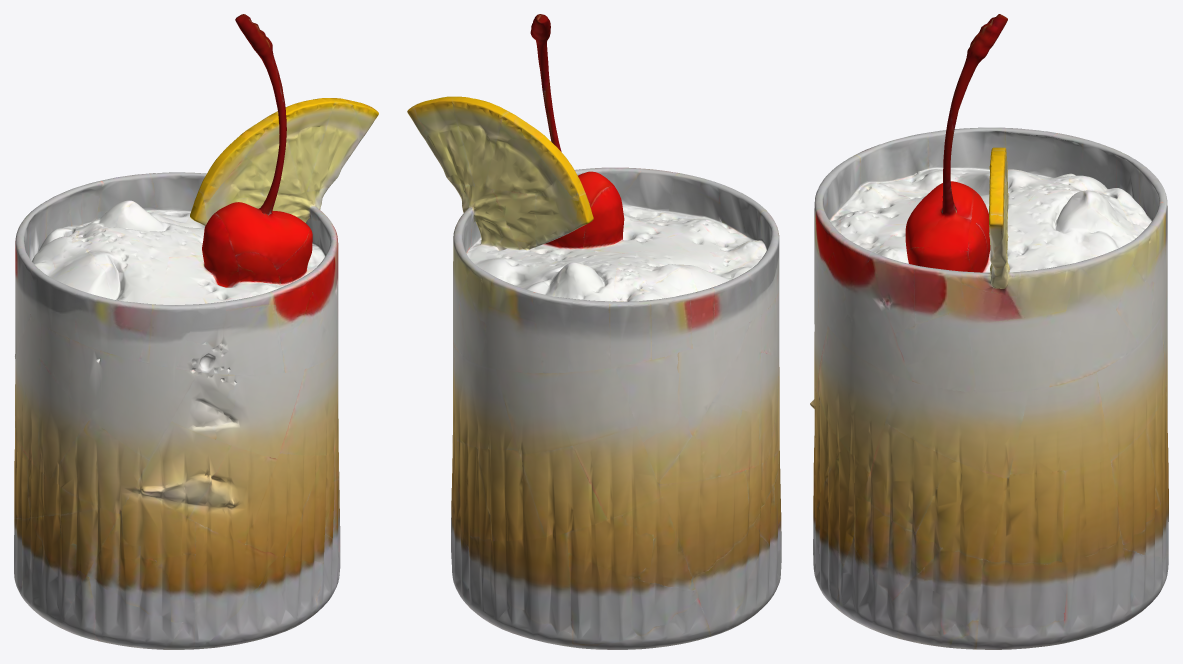
Rendered from alibi-sour.glb.
3 views of the same model, side by side, from view 1: azimuth 30°, elevation 25°; view 2: azimuth 150°, elevation 25°; view 3: azimuth 270°, elevation 25° (orthographic). The views are drawn at different scales.
Visible parts, largest first — view 1: mesh_node; view 2: mesh_node; view 3: mesh_node.
Boxes of the visible parts, x1,y1,x2,y2 form: mesh_node: (14,14,378,649); mesh_node: (407,14,781,649); mesh_node: (810,14,1168,649).
Size of the model in its own units: 0.0979 by 0.15 by 0.0809.
1 material, 1 textured.
